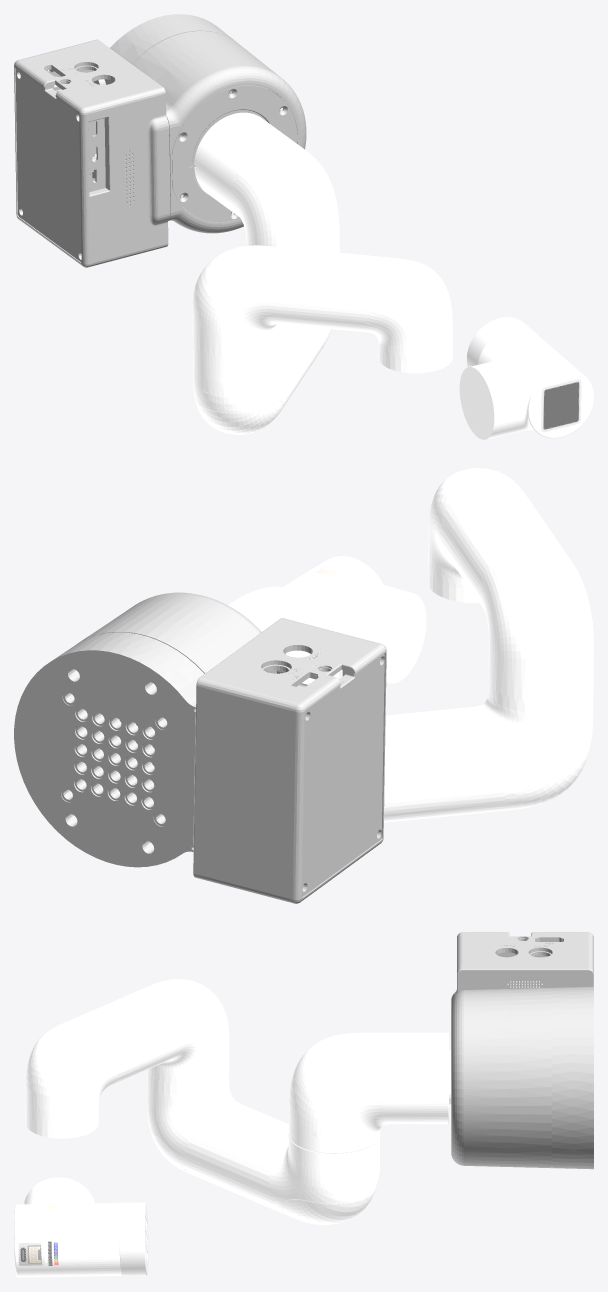
Rendered from mycobot.glb.
3 renders of one model, top to bottom at view 1: azimuth 30°, elevation 25°; view 2: azimuth 150°, elevation 25°; view 3: azimuth 270°, elevation 25°, orthographic. The views are drawn at different scales.
Parts seen in each view (by area): view 1: mycobot_0, mycobot_3, mycobot_1, mycobot_5, mycobot_2, mycobot_6; view 2: mycobot_0, mycobot_3, mycobot_2, mycobot_5, mycobot_1; view 3: mycobot_0, mycobot_3, mycobot_2, mycobot_1, mycobot_5, mycobot_6.
Boxes of the visible parts, <box> form: mycobot_0: <box>14,14,306,267</box>; mycobot_3: <box>192,245,452,373</box>; mycobot_1: <box>194,112,339,267</box>; mycobot_5: <box>459,327,593,439</box>; mycobot_2: <box>193,274,331,434</box>; mycobot_6: <box>466,317,536,366</box>; mycobot_0: <box>14,592,386,903</box>; mycobot_3: <box>428,468,593,701</box>; mycobot_2: <box>384,679,593,822</box>; mycobot_5: <box>283,556,426,683</box>; mycobot_1: <box>228,586,338,684</box>; mycobot_0: <box>451,932,593,1169</box>; mycobot_3: <box>25,979,229,1138</box>; mycobot_2: <box>147,1069,379,1224</box>; mycobot_1: <box>289,1032,451,1153</box>; mycobot_5: <box>14,1177,121,1277</box>; mycobot_6: <box>119,1202,148,1275</box>.
Bounding box in the file's own units: 0.1859 × 0.1343 × 0.3046.
4 materials, 3 textured.
